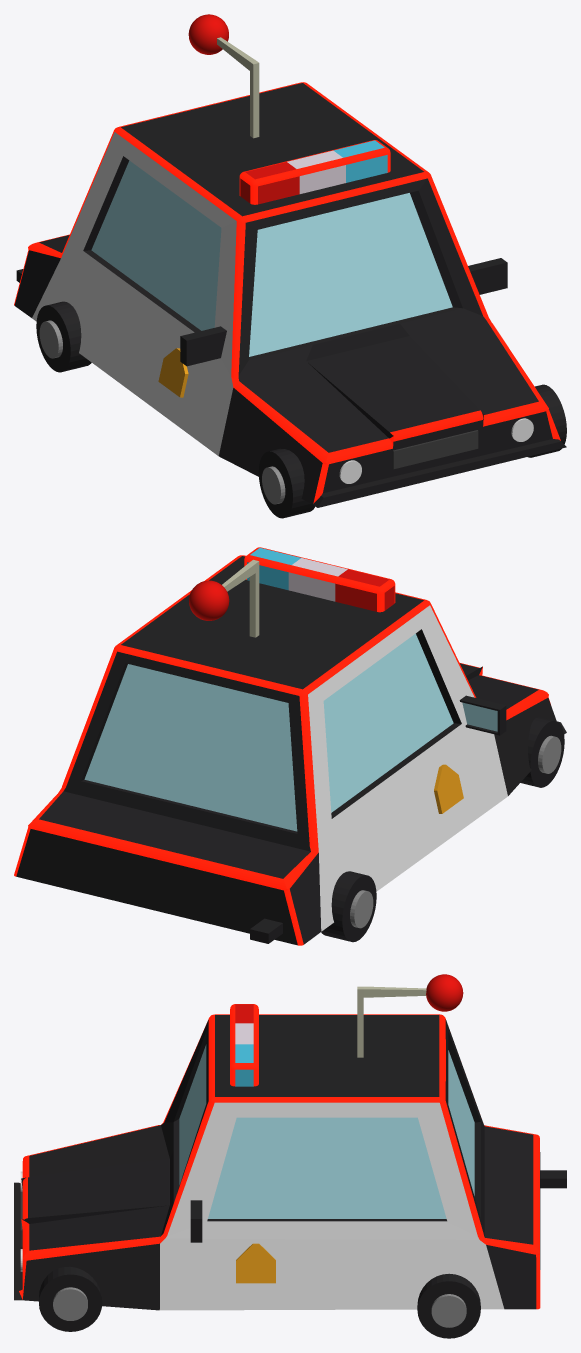
Rendered from J_obsconmovimiento_Car.fbx.
3 renders of one model, top to bottom at view 1: azimuth 30°, elevation 25°; view 2: azimuth 150°, elevation 25°; view 3: azimuth 270°, elevation 25°, orthographic. The views are drawn at different scales.
Parts seen in each view (by area): view 1: Cube.007; view 2: Cube.007; view 3: Cube.007.
Part boxes in pixels (bbox=[...]): Cube.007: bbox=[14, 14, 566, 518]; Cube.007: bbox=[14, 547, 566, 945]; Cube.007: bbox=[14, 974, 566, 1338].
Bounding box in the file's own units: 92.04 × 87.29 × 149.
